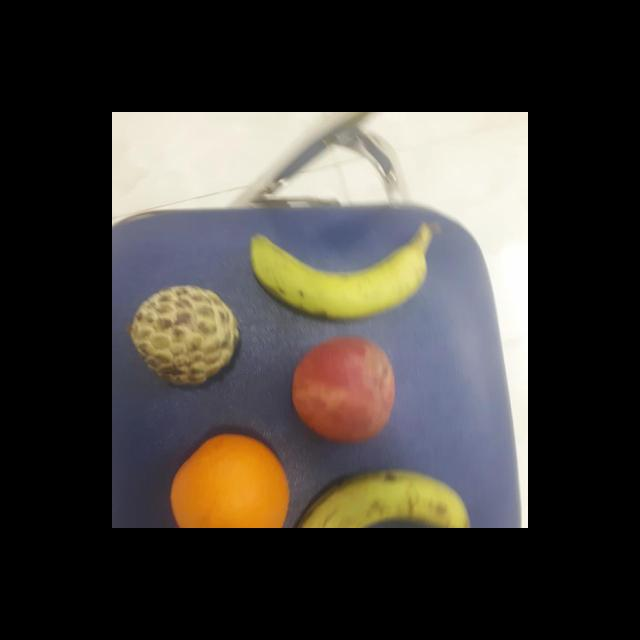Sakya fruit: (128, 282, 245, 391)
apple: (288, 333, 400, 442)
banana: (247, 222, 442, 320), (288, 464, 473, 528)
orange: (166, 432, 294, 528)
